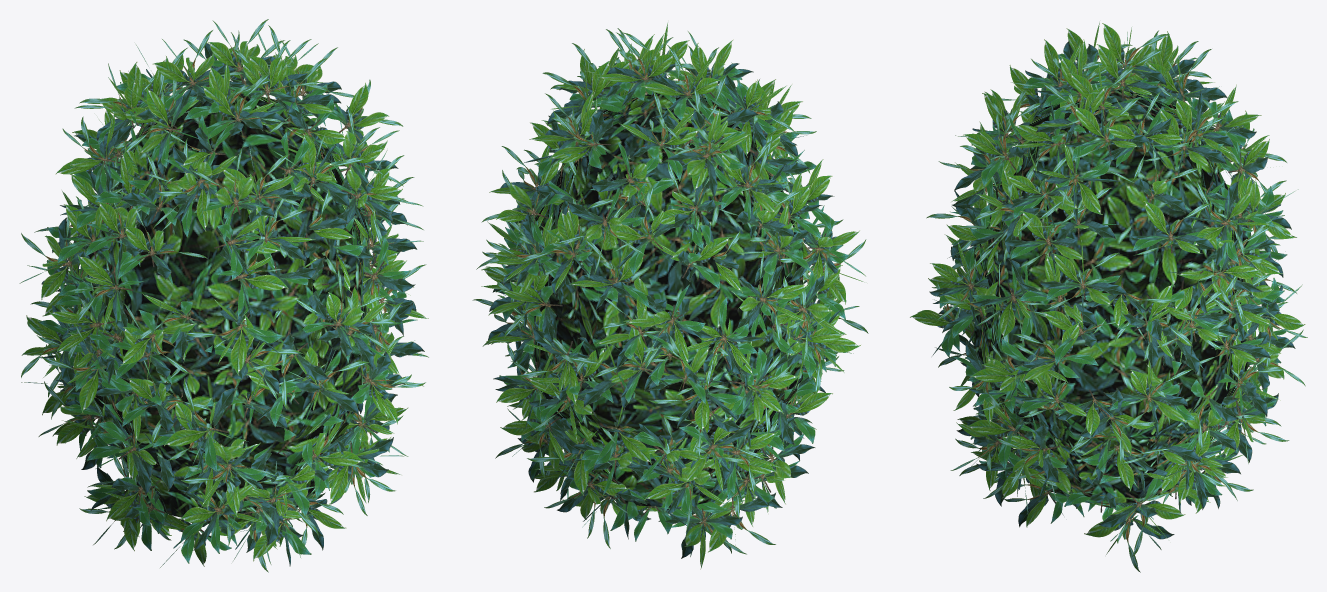
Rendered from HedgeLongRoundExp.obj.
3 renders of one model, left to right at view 1: azimuth 30°, elevation 25°; view 2: azimuth 150°, elevation 25°; view 3: azimuth 270°, elevation 25°, orthographic. The views are drawn at different scales.
Visible parts, largest first — view 1: HedgeLongRound_HedgeLongRound_Default_OBJ; view 2: HedgeLongRound_HedgeLongRound_Default_OBJ; view 3: HedgeLongRound_HedgeLongRound_Default_OBJ.
Part boxes in pixels (<box>): HedgeLongRound_HedgeLongRound_Default_OBJ: <box>19,19,428,572</box>; HedgeLongRound_HedgeLongRound_Default_OBJ: <box>472,23,868,569</box>; HedgeLongRound_HedgeLongRound_Default_OBJ: <box>910,22,1307,572</box>.
Bounding box in the file's own units: 27.97 × 38.81 × 28.21.
Materials: 1 (1 with a texture image).
